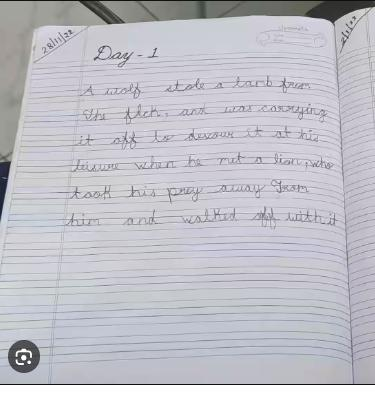text: (66, 176, 310, 205), (72, 125, 319, 153), (65, 204, 339, 229), (81, 100, 328, 126), (72, 151, 336, 175), (80, 74, 312, 101), (92, 43, 160, 69), (37, 28, 75, 56), (338, 14, 359, 45)
